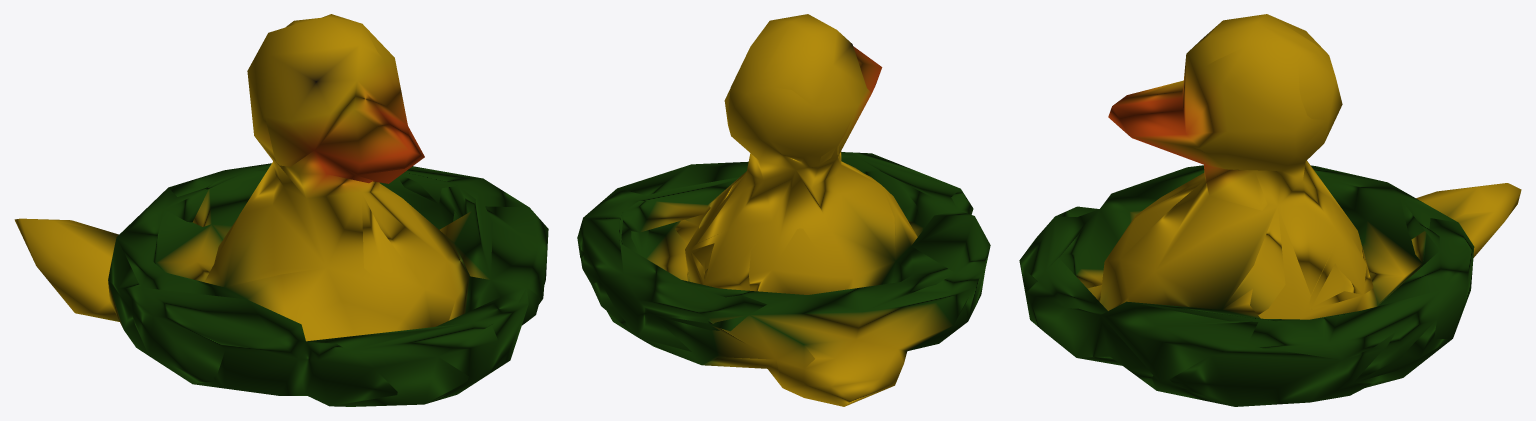
File: gen3d-duck-pond-lod1.glb
3 renders of one model, left to right at view 1: azimuth 30°, elevation 25°; view 2: azimuth 150°, elevation 25°; view 3: azimuth 270°, elevation 25°, orthographic. The views are drawn at different scales.
Parts seen in each view (by area): view 1: part_0; view 2: part_0; view 3: part_0.
Boxes of the visible parts, left/top/right/bottom form: part_0: left=14, top=14, right=548, bottom=406; part_0: left=577, top=14, right=990, bottom=406; part_0: left=1019, top=14, right=1521, bottom=406.
Bounding box in the file's own units: 1.26 × 0.9888 × 1.41.
